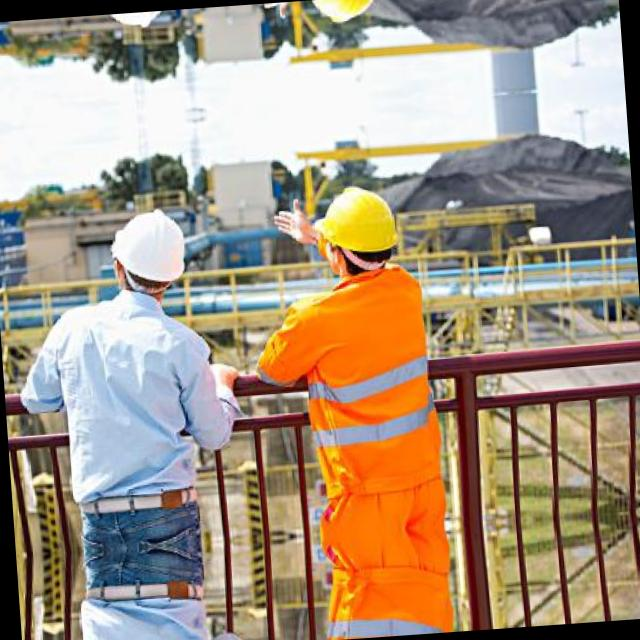helmet: (106, 200, 202, 312), (300, 178, 402, 281), (286, 0, 385, 30), (92, 9, 184, 37)
